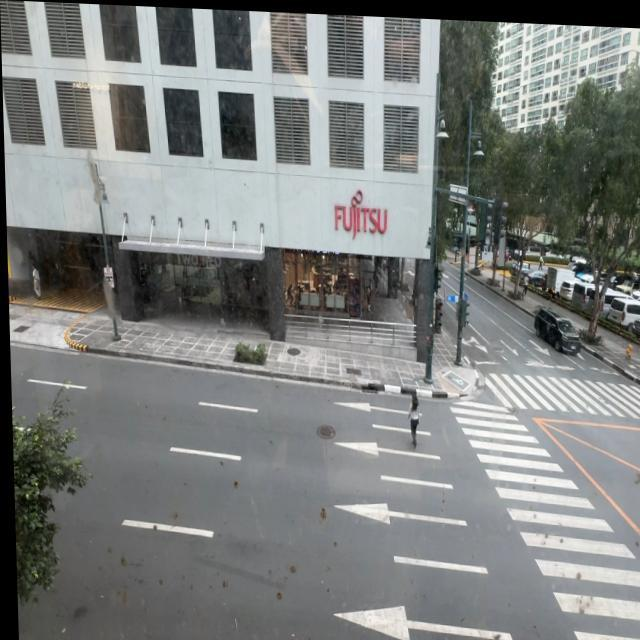jaywalking: (402, 379, 424, 455)
